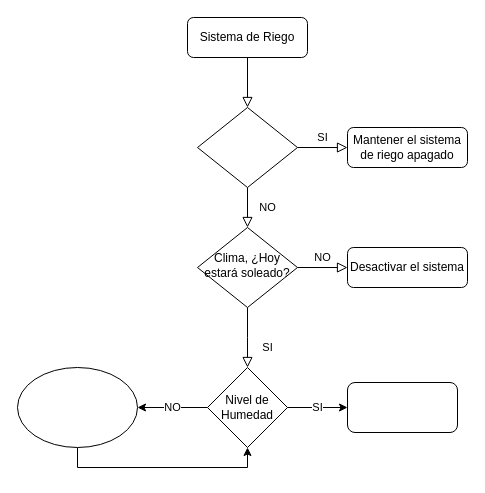
Some shapes in this 485 by 493 pixel diagram are drawn without their labels. Here are the shapes that lost their labels. From the top down, the centre of each, then its label:
point 247,147: ¿El suelo esta humedo?
point 77,407: Habilitar los Aspersores
point 402,407: Mantener apagado los aspersores
